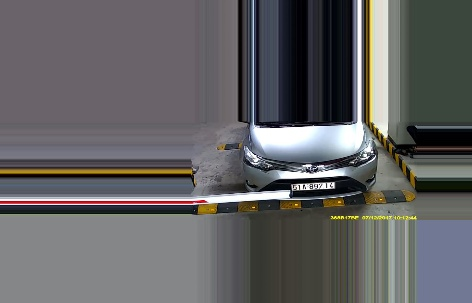plate: (290, 178, 336, 190)
